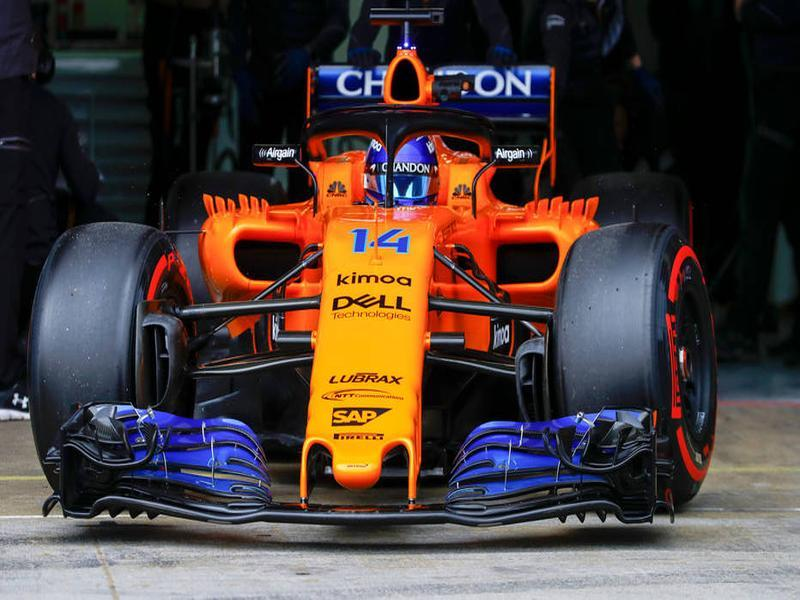racecar: (31, 46, 723, 534)
